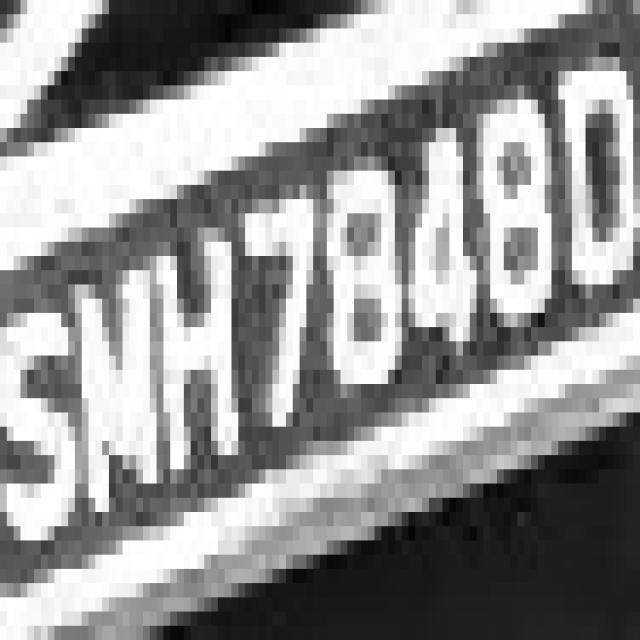4: (388, 128, 483, 398)
7: (245, 157, 306, 455)
8: (306, 114, 402, 455), (463, 85, 558, 370)
D: (552, 28, 626, 313)
H: (150, 185, 259, 540)
M: (75, 242, 156, 498)
S: (7, 256, 82, 555)
